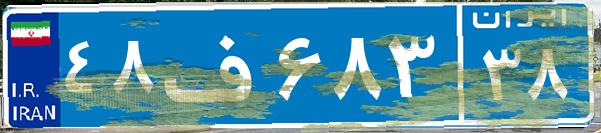3: (385, 28, 445, 110), (475, 38, 525, 113)
4: (57, 26, 110, 107)
6: (273, 28, 330, 110)
8: (330, 28, 385, 110), (110, 28, 158, 105), (525, 38, 570, 115)
ف: (158, 15, 273, 115)
